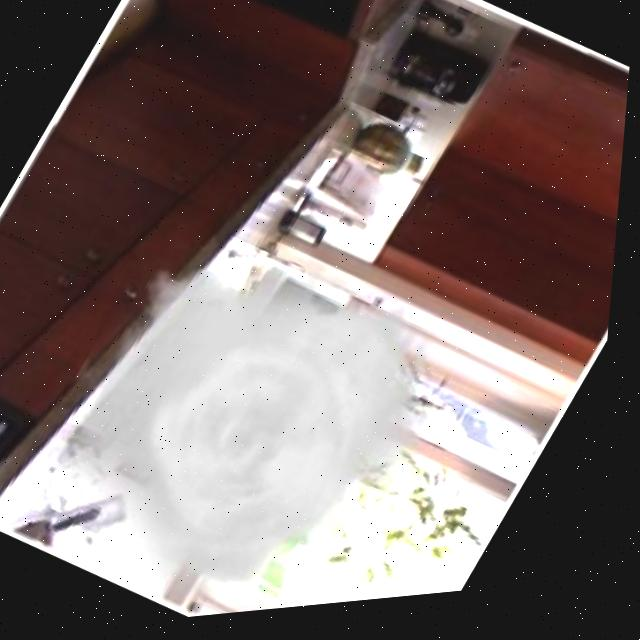Smoke: (15, 181, 488, 636)
